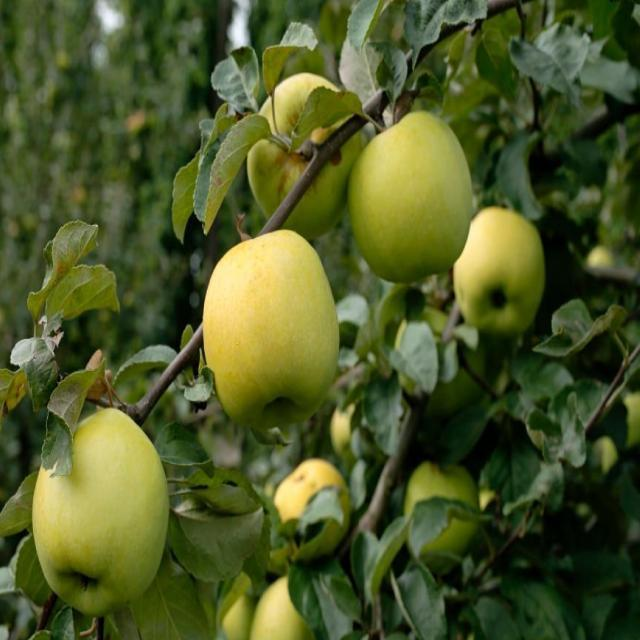Green Apple: (30, 405, 161, 616), (204, 235, 328, 437), (352, 104, 465, 276), (253, 72, 352, 227), (450, 215, 543, 339), (401, 296, 480, 411), (399, 460, 477, 570), (271, 465, 346, 559), (215, 564, 274, 640), (257, 567, 315, 640), (328, 408, 361, 458), (587, 244, 618, 279), (596, 439, 617, 474), (629, 387, 640, 432)
